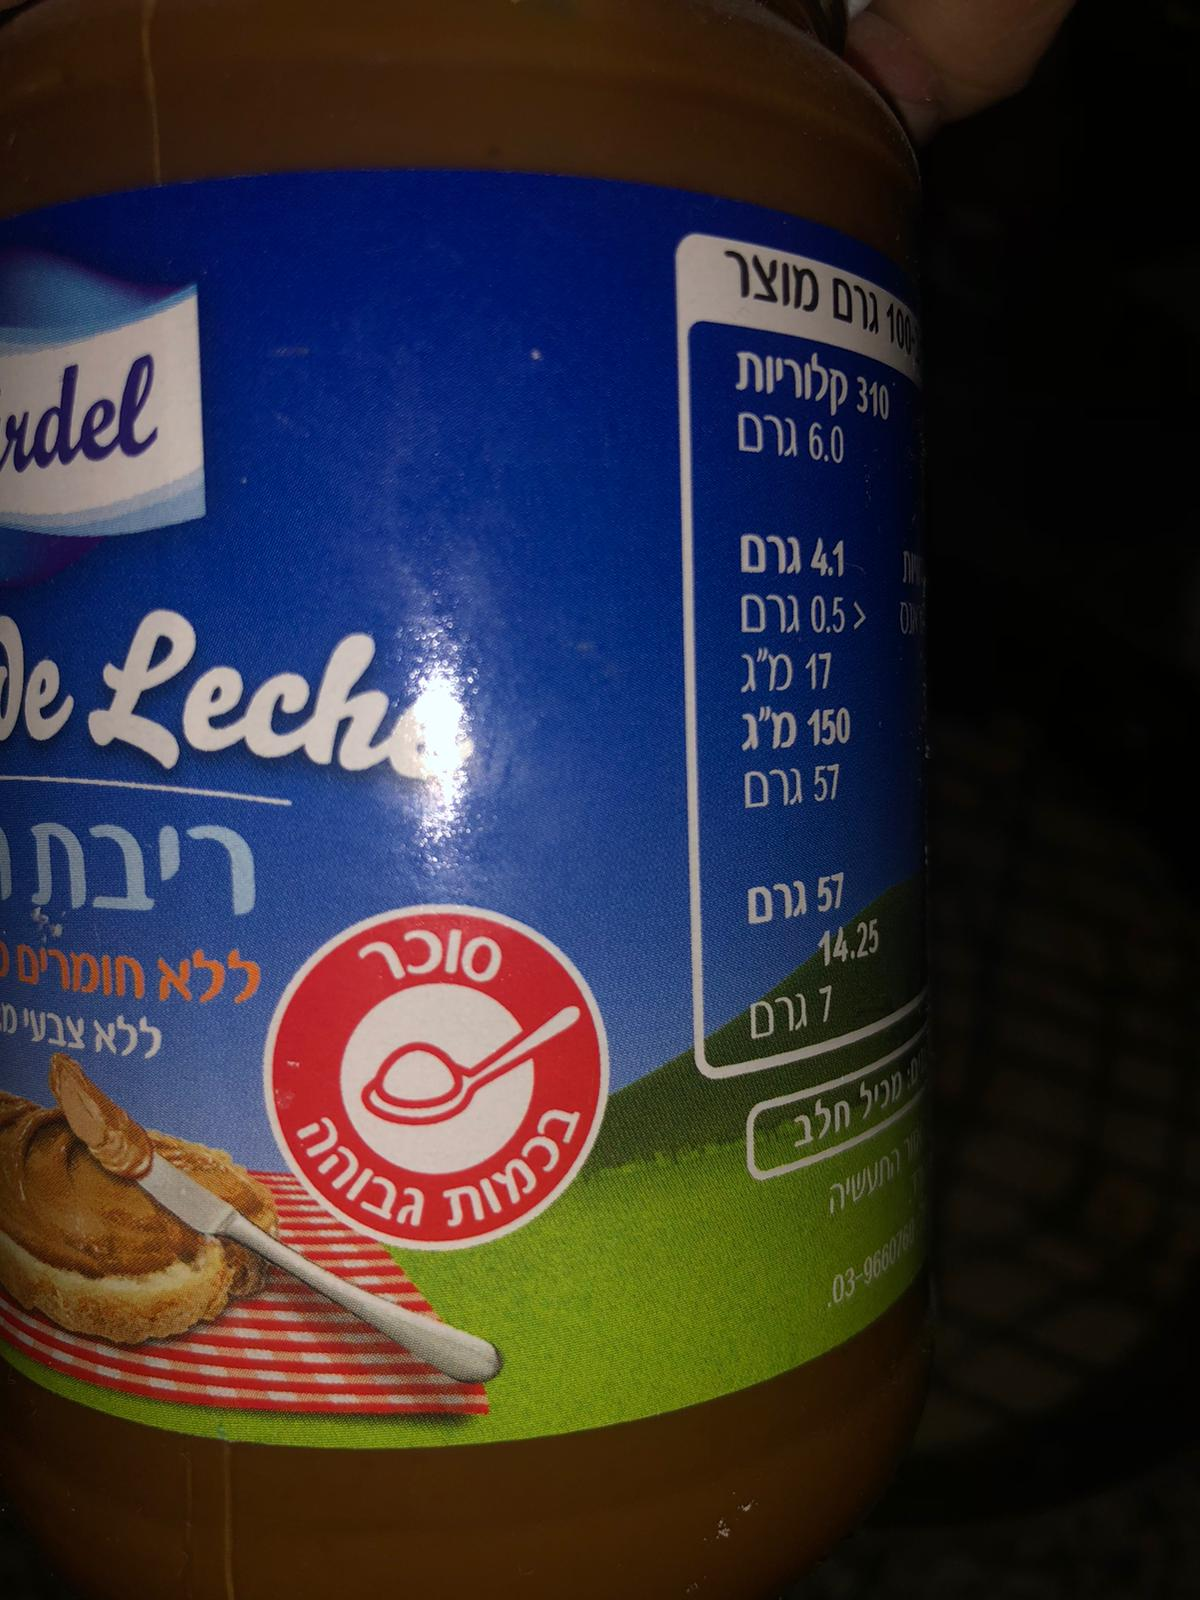sugar: (263, 901, 614, 1254)
